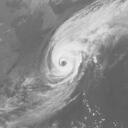cyclone: (47, 44, 80, 81)
